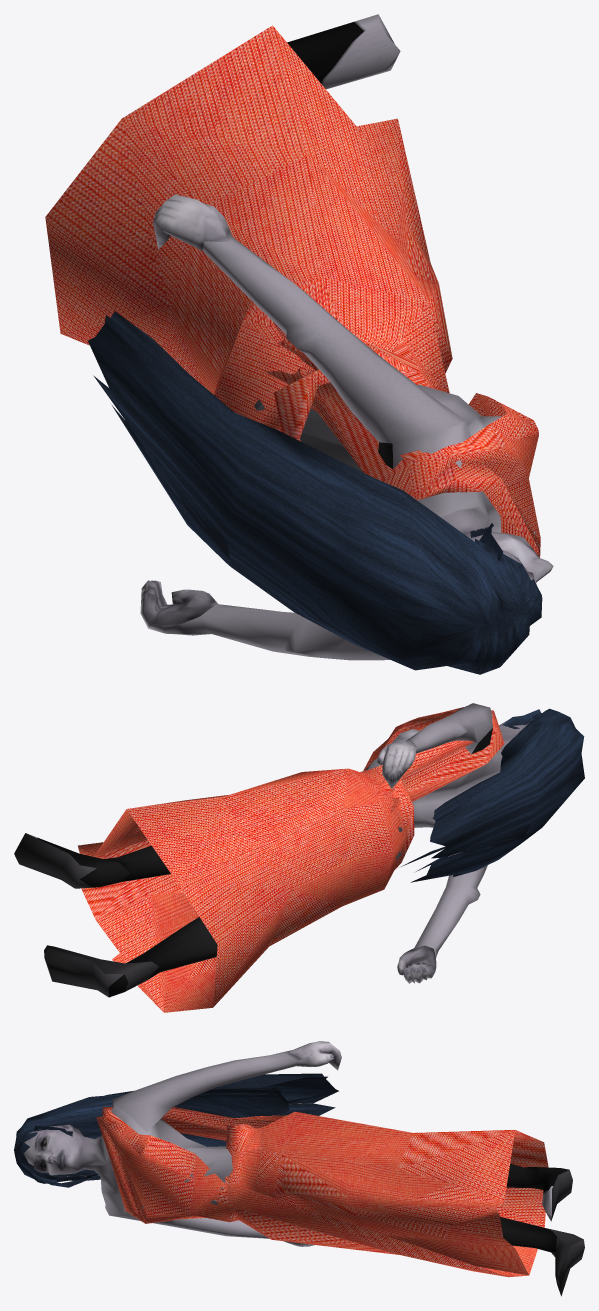
The model's file is sita_000153.obj.
3 renders of one model, top to bottom at view 1: azimuth 30°, elevation 25°; view 2: azimuth 150°, elevation 25°; view 3: azimuth 270°, elevation 25°, orthographic. The views are drawn at different scales.
Visible parts, largest first — view 1: saree_Cylinder, hair.003_omino.013, body.001_omino.012; view 2: saree_Cylinder, body.001_omino.012, hair.003_omino.013; view 3: saree_Cylinder, body.001_omino.012, hair.003_omino.013.
Boxes of the visible parts, x1,y1,x2,y2 form: saree_Cylinder: (45, 25, 540, 557); hair.003_omino.013: (88, 311, 542, 674); body.001_omino.012: (140, 14, 553, 660); saree_Cylinder: (78, 707, 504, 1012); body.001_omino.012: (14, 703, 528, 997); hair.003_omino.013: (401, 708, 584, 882); saree_Cylinder: (96, 1107, 548, 1277); body.001_omino.012: (23, 1041, 584, 1296); hair.003_omino.013: (14, 1073, 338, 1187).
Size of the model in its own units: 1.45 by 1.05 by 2.63.
